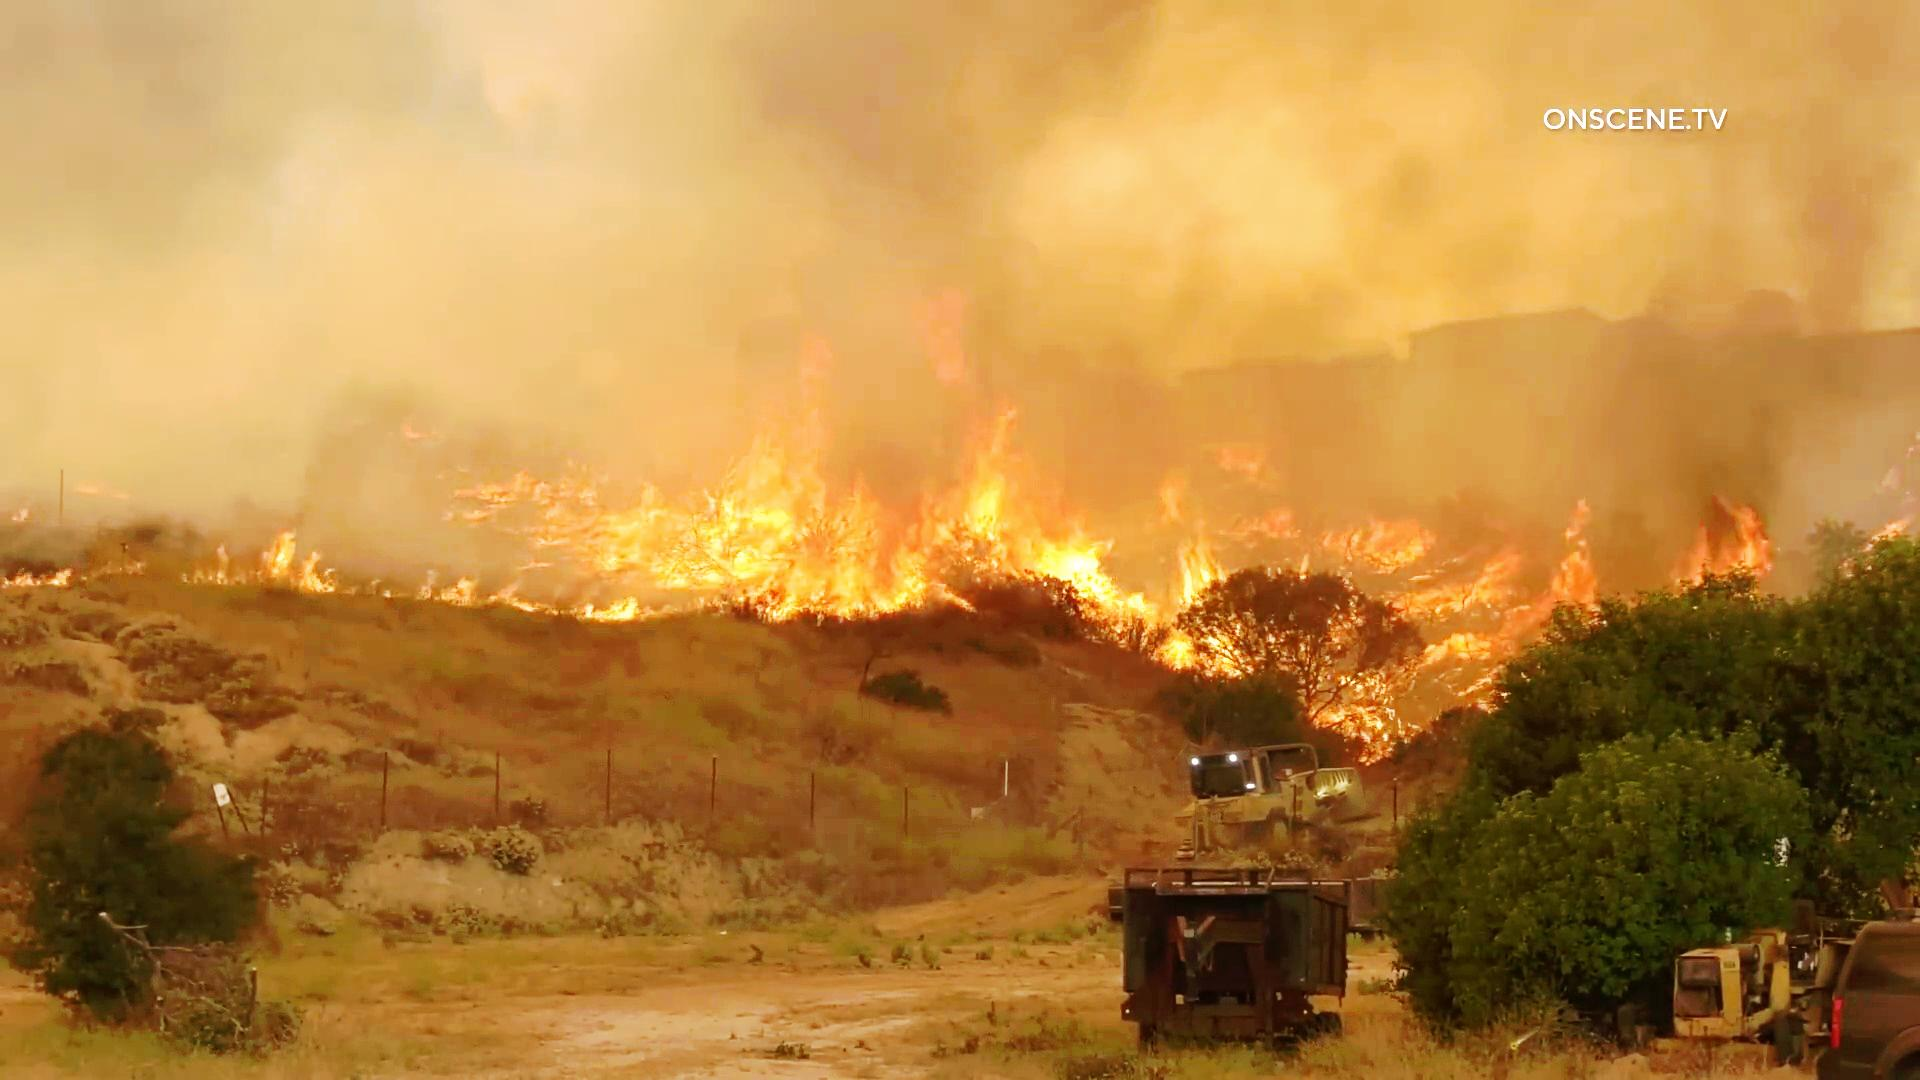fire: (476, 284, 1147, 629), (1356, 483, 1801, 615)
